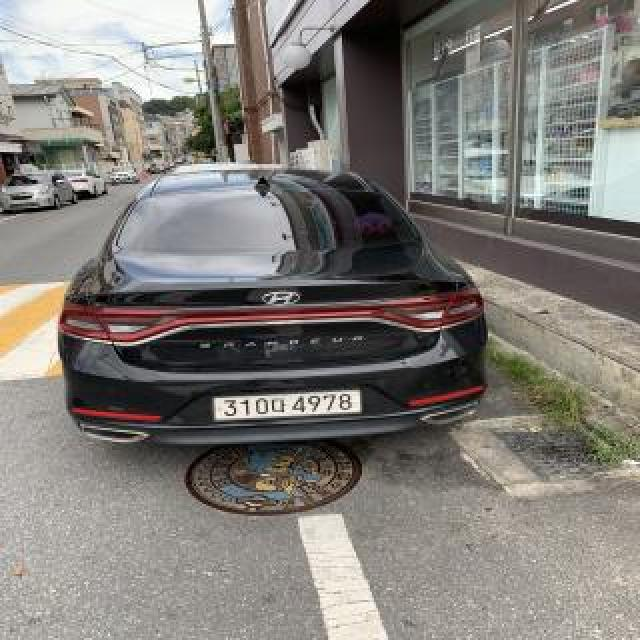car: (52, 161, 504, 466)
illegal_plate: (213, 386, 365, 426)
